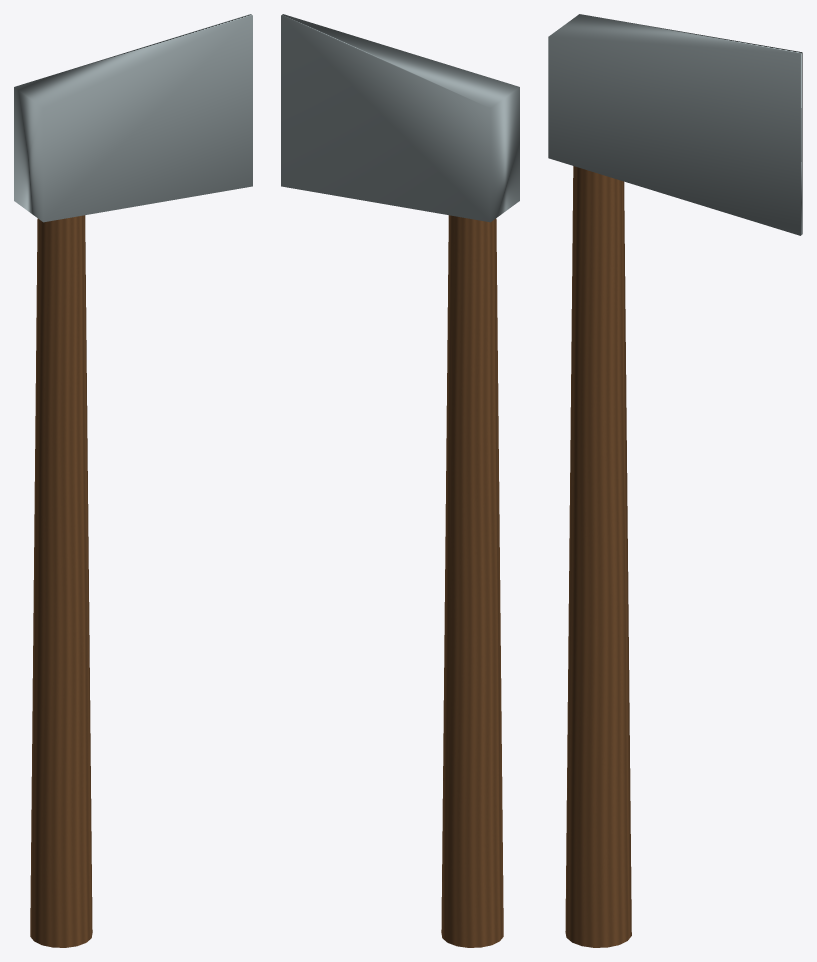
The model's file is prop-axe.gltf.
3 views of the same model, side by side, from view 1: azimuth 30°, elevation 25°; view 2: azimuth 150°, elevation 25°; view 3: azimuth 330°, elevation 25° (orthographic). The views are drawn at different scales.
Visible parts, largest first — view 1: axe; view 2: axe; view 3: axe.
Boxes of the visible parts, x1,y1,x2,y2 form: axe: [14, 14, 252, 947]; axe: [281, 14, 519, 947]; axe: [548, 14, 802, 947].
Size of the model in its own units: 0.123 by 0.46 by 0.03.
Materials: 2 (1 with a texture image).
